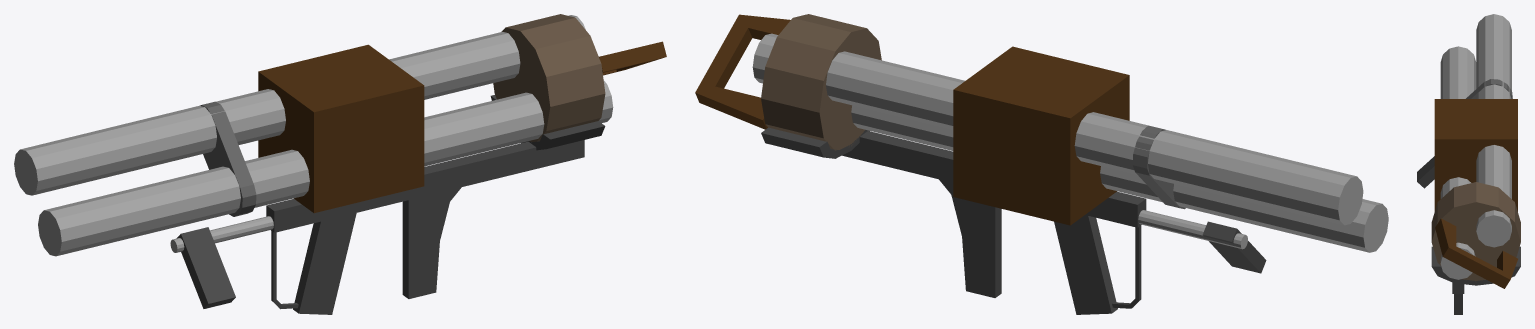
The model's file is RocketLauncher.obj.
3 views of the same model, side by side, from view 1: azimuth 30°, elevation 25°; view 2: azimuth 150°, elevation 25°; view 3: azimuth 270°, elevation 25° (orthographic). The views are drawn at different scales.
Visible parts, largest first — view 1: the_node.011_tri_456_geometry; view 2: the_node.011_tri_456_geometry; view 3: the_node.011_tri_456_geometry.
Boxes of the visible parts, x1,y1,x2,y2 form: the_node.011_tri_456_geometry: [14, 14, 666, 314]; the_node.011_tri_456_geometry: [695, 14, 1388, 314]; the_node.011_tri_456_geometry: [1417, 14, 1520, 314].
Size of the model in its own units: 2.09 by 0.7452 by 0.4144.
